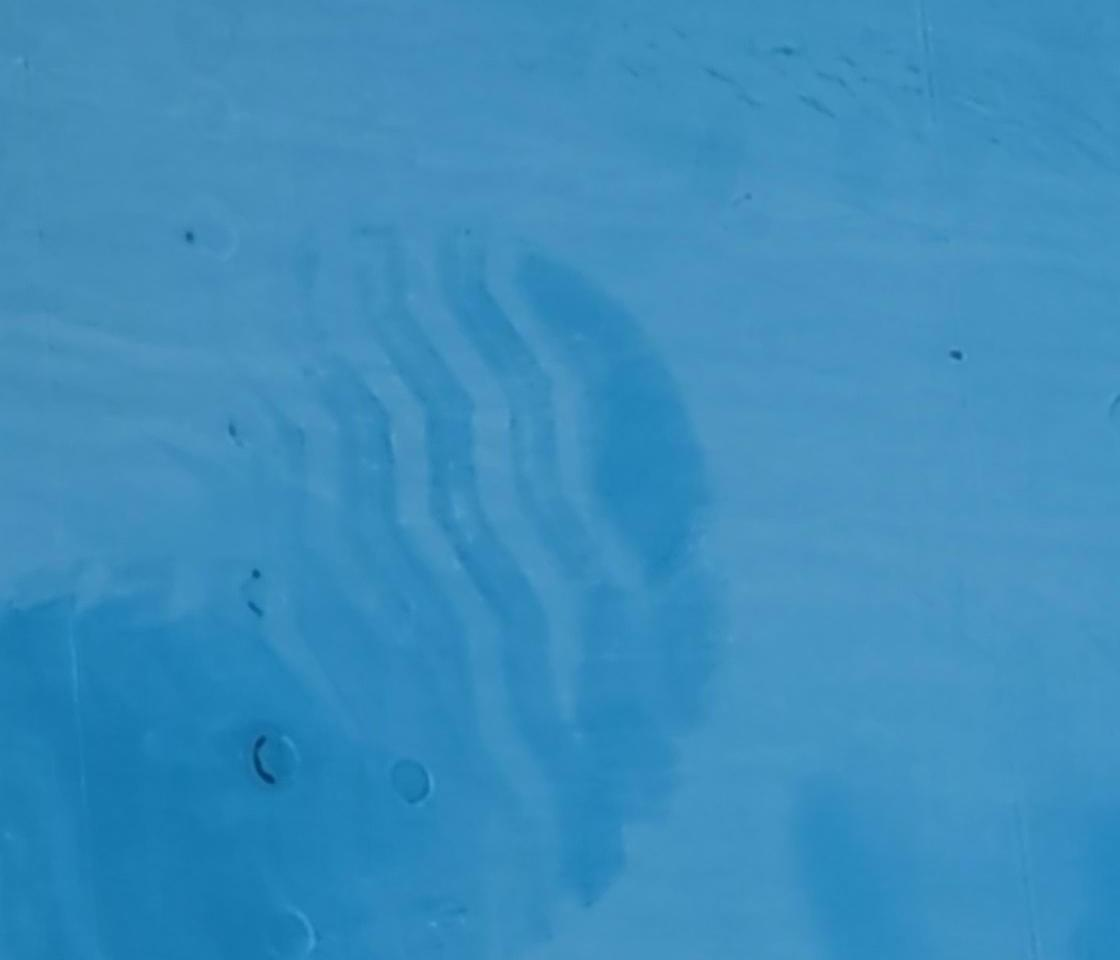scratch: (242, 728, 282, 794)
